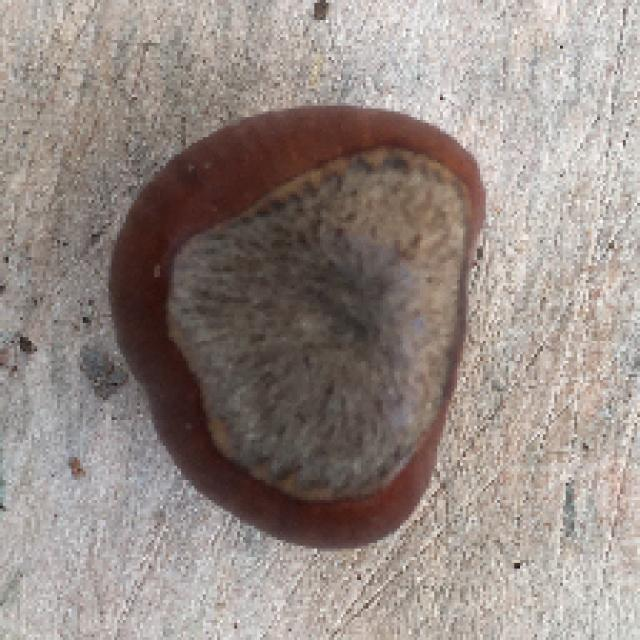qualityHazelnut: (103, 93, 502, 557)
